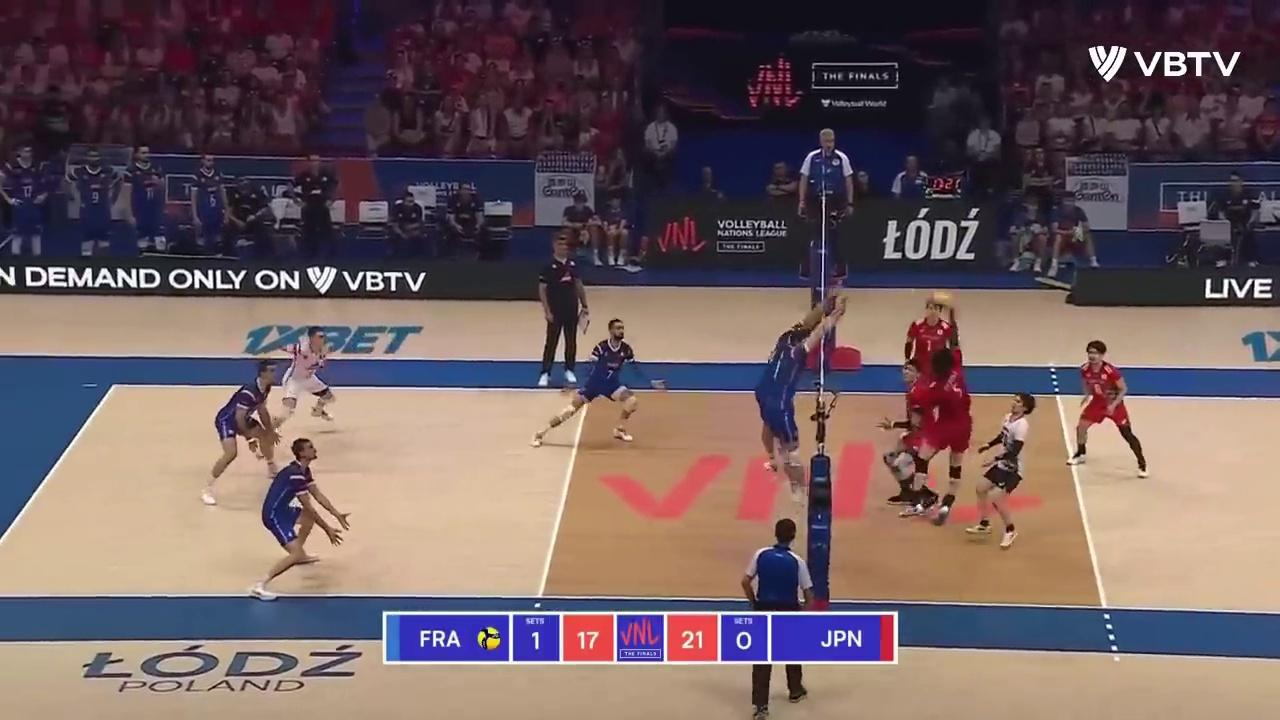ball: (928, 290, 956, 308)
